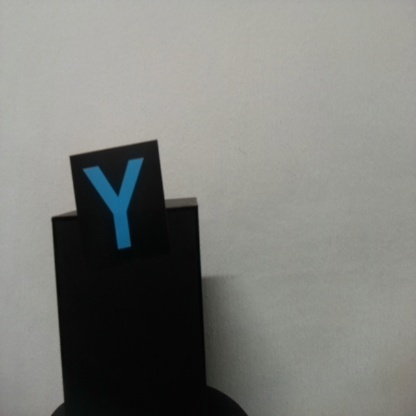id_14: (69, 154, 167, 267)
